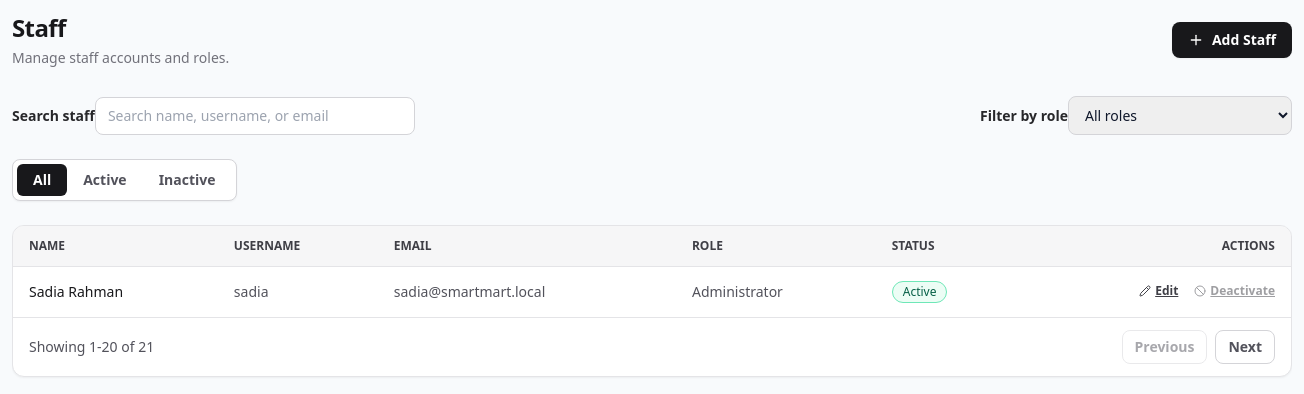
it: StaffPage (IMS-07) › paginates and displays the current item range
Expected: the text "Showing 1-20 of 21" is shown, [29,337,154,357]
Click the button with aria-label "Next page". click: (1245, 347)
box: [1216,330,1275,364]
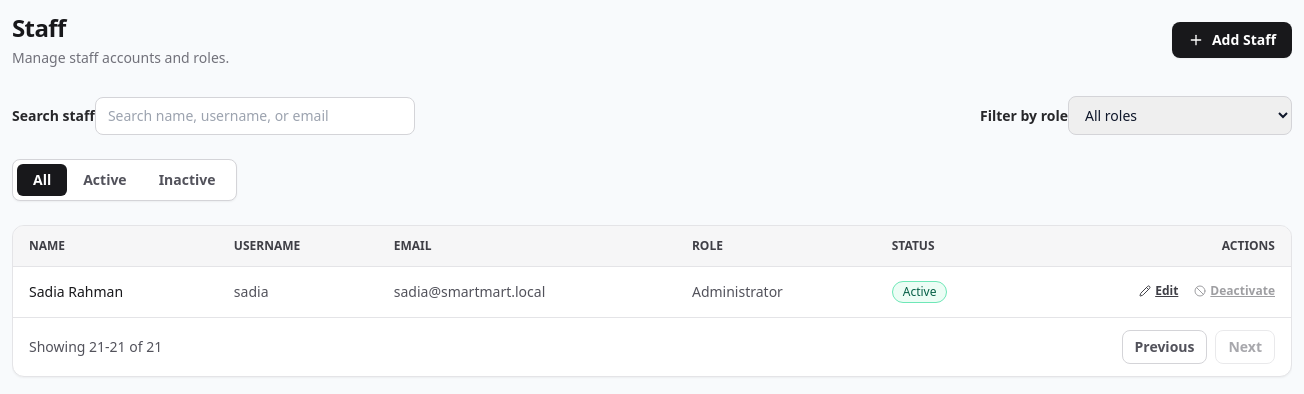
Now the text "Showing 21-21 of 21" is shown, box [29,337,162,357]
Click the button with aria-label "Previous page". click: (1164, 347)
box: [1122,330,1207,364]
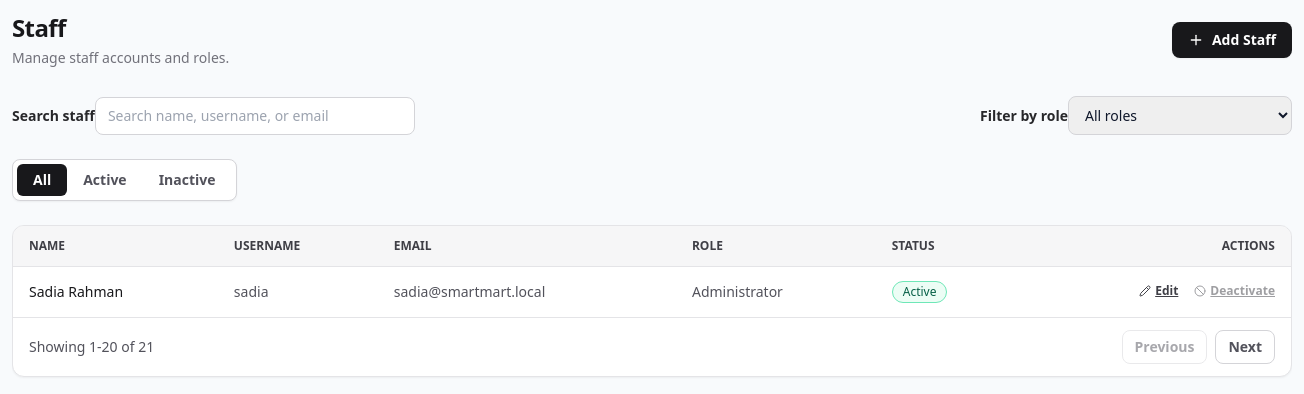
Now the text "Showing 1-20 of 21" is shown, box [29,337,154,357]
